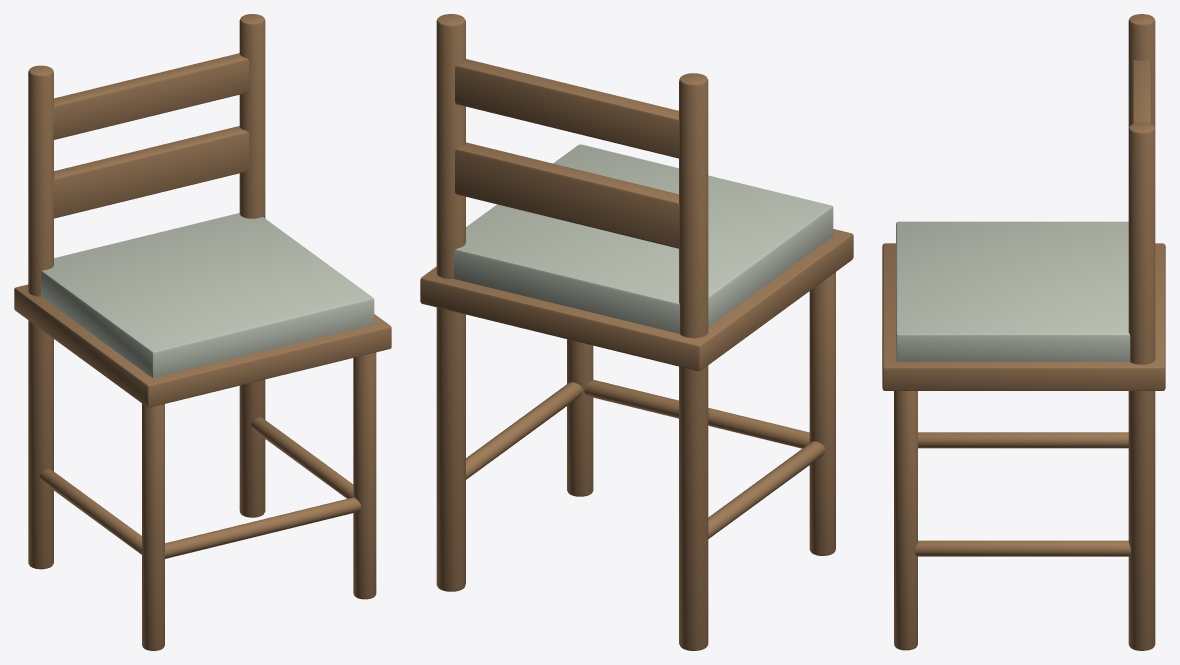
File: chair.glb
3 views of the same model, side by side, from view 1: azimuth 30°, elevation 25°; view 2: azimuth 150°, elevation 25°; view 3: azimuth 270°, elevation 25° (orthographic). The views are drawn at different scales.
Parts seen in each view (by area): view 1: Chair; view 2: Chair; view 3: Chair.
Boxes of the visible parts, <box> form: Chair: <box>14,14,391,650</box>; Chair: <box>420,14,853,650</box>; Chair: <box>882,14,1165,650</box>.
Size of the model in its own units: 0.44 by 0.85 by 0.42.
Materials: 2 (2 with a texture image).
